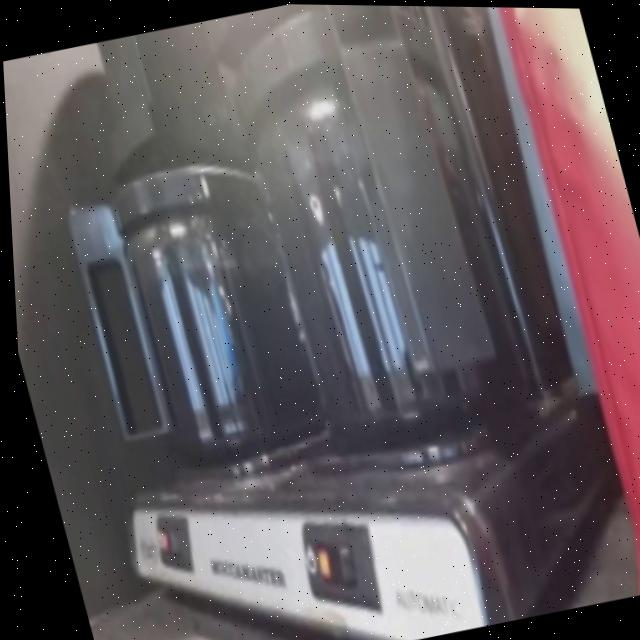coffee: (260, 111, 534, 435), (123, 211, 315, 462)
